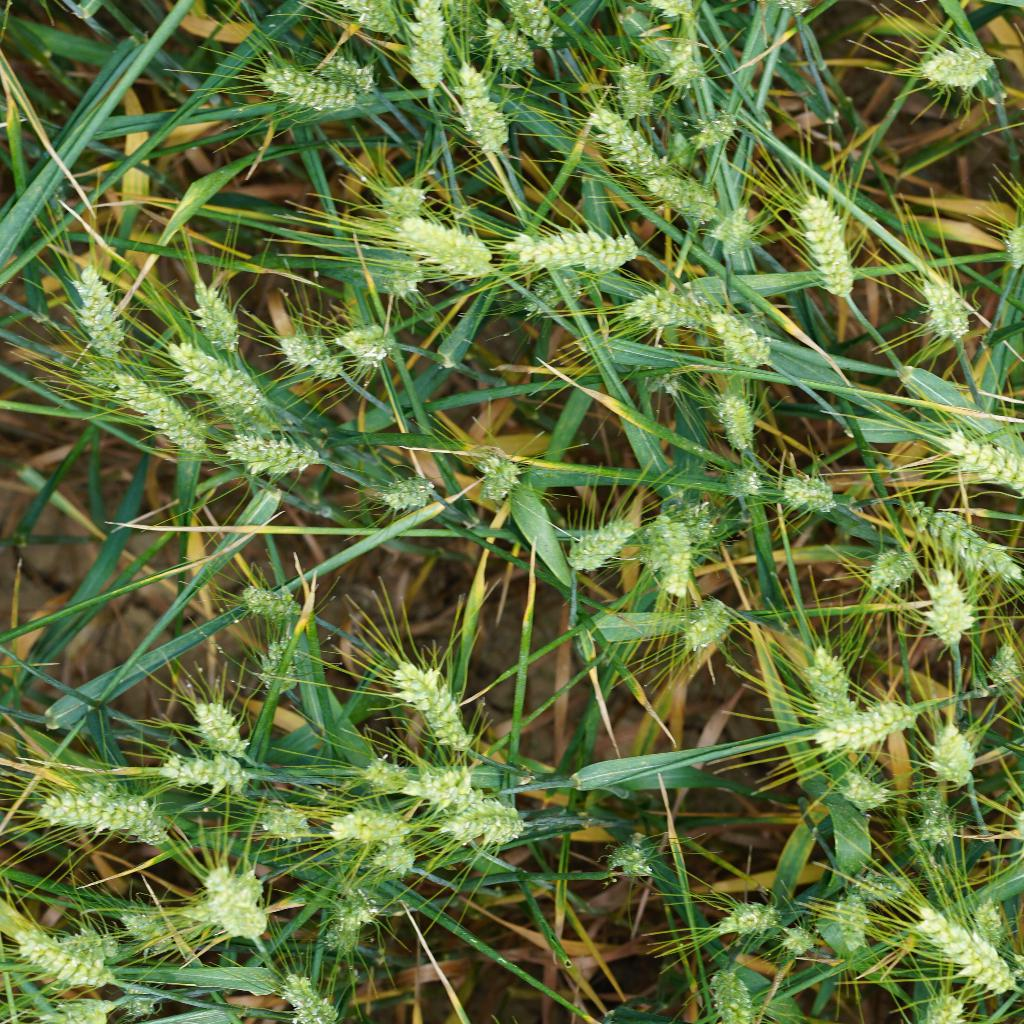0-0: (101, 362, 232, 466), (776, 167, 863, 306), (376, 651, 484, 757), (905, 505, 1024, 590), (29, 784, 174, 851), (930, 423, 1024, 520), (503, 220, 650, 281), (240, 52, 370, 120), (392, 208, 501, 283), (158, 338, 273, 409), (145, 744, 281, 803), (905, 561, 989, 656), (165, 272, 249, 362), (925, 920, 1024, 995), (66, 251, 133, 358), (796, 692, 926, 746), (183, 690, 275, 762), (907, 261, 983, 348), (635, 25, 722, 100), (219, 426, 329, 485), (367, 759, 503, 806), (14, 926, 118, 987), (201, 859, 277, 942), (894, 34, 1000, 93), (686, 295, 770, 369), (441, 62, 514, 145), (580, 100, 658, 175), (462, 433, 537, 511), (310, 875, 402, 938), (643, 153, 721, 225), (103, 895, 189, 960), (792, 635, 863, 713), (268, 320, 350, 387), (468, 0, 534, 81), (609, 821, 675, 900), (567, 507, 634, 583), (934, 721, 1000, 798), (264, 965, 350, 1024), (240, 579, 331, 634), (674, 586, 743, 658), (423, 808, 538, 851), (642, 509, 699, 594), (621, 286, 703, 344), (399, 1, 456, 84), (251, 636, 321, 703), (58, 351, 157, 395), (590, 47, 653, 115), (652, 488, 721, 550), (249, 789, 310, 856), (706, 884, 783, 937), (675, 94, 743, 154), (485, 0, 564, 51), (370, 466, 440, 523), (203, 391, 279, 441), (25, 989, 132, 1024), (326, 806, 417, 847), (328, 0, 418, 41), (778, 467, 848, 519), (699, 202, 763, 258), (310, 47, 387, 93), (701, 963, 759, 1024), (714, 384, 766, 451), (354, 837, 438, 878), (864, 530, 916, 595), (836, 759, 901, 811), (325, 313, 400, 357), (359, 172, 438, 213), (964, 893, 1011, 957), (366, 253, 430, 300), (312, 905, 361, 963), (711, 457, 770, 501), (984, 636, 1023, 699), (825, 892, 867, 948), (755, 920, 814, 959), (921, 985, 980, 1023), (115, 971, 162, 1018), (858, 867, 908, 911), (918, 803, 956, 860)
